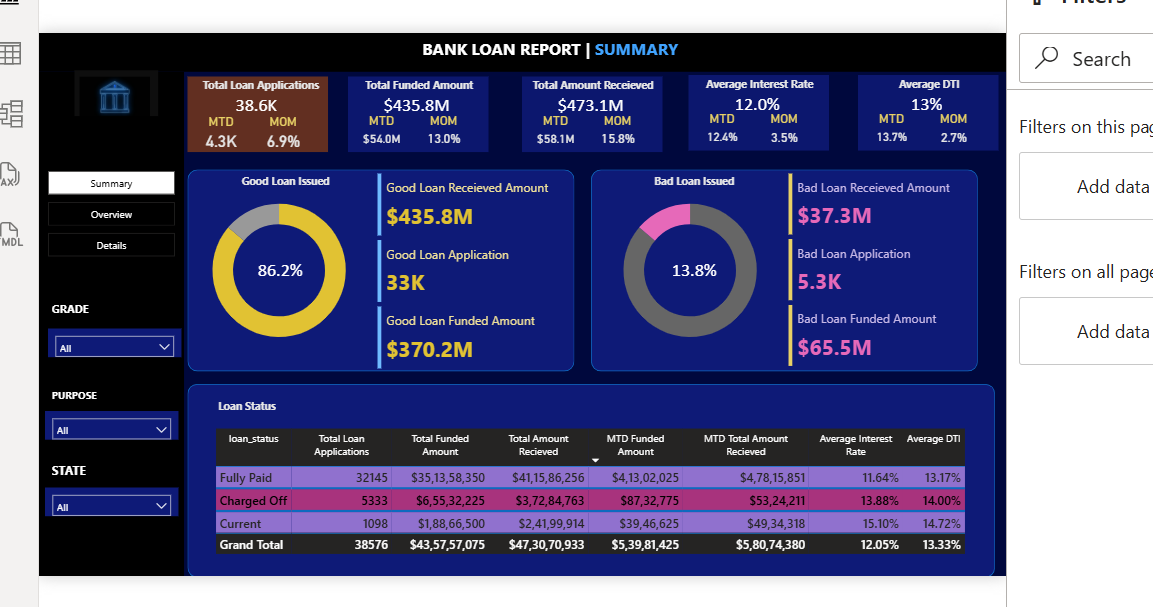

The dashboard page shown, as its layout file describes it:
{"tool":"powerbi","page":{"name":"Summary","canvas":[1280,720],"ordinal":0},"visuals":[{"type":"shape","box":[0,0,1280.7,51.6],"z":0},{"type":"shape","box":[858.9,56.2,186.1,100.2],"z":0,"group":"g4"},{"type":"shape","box":[1083.2,56.2,186.1,100.2],"z":0,"group":"g5"},{"type":"shape","box":[408.8,57.8,186.1,100.2],"z":0,"group":"g2"},{"type":"shape","box":[639.4,57.8,186.1,100.2],"z":0,"group":"g3"},{"type":"shape","box":[197.2,58.9,186.1,100.2],"z":0,"group":"g1"},{"type":"textbox","box":[502.6,0,356.3,81.1],"z":1000},{"type":"group","id":"g1","title":"Group 1","box":[197.2,54.1,186.1,105],"z":2000},{"type":"shape","box":[197.2,179.7,512.2,267.2],"z":3000},{"type":"group","id":"g2","title":"Group 1","box":[408.8,54.1,187.7,103.4],"z":4000},{"type":"card","fields":{"Values":["financial_loan.Average Interest Rate"]},"box":[858.9,56.2,181.3,74.8],"z":4000,"group":"g4"},{"type":"card","fields":{"Values":["financial_loan.Average DTI"]},"box":[1083.2,56.2,181.3,74.8],"z":4000,"group":"g5"},{"type":"card","fields":{"Values":["financial_loan.Total Funded Amount"]},"box":[408.8,57.8,181.3,74.8],"z":4000,"group":"g2"},{"type":"card","fields":{"Values":["financial_loan.Total Amount Recieved"]},"box":[639.4,57.8,181.3,74.8],"z":4000,"group":"g3"},{"type":"card","fields":{"Values":["financial_loan.Total Loan Applications"]},"box":[197.2,58.9,181.3,74.8],"z":4000,"group":"g1"},{"type":"textbox","box":[861.8,52.5,184.5,35],"z":5000,"group":"g4"},{"type":"textbox","box":[1086.1,52.5,184.5,35],"z":5000,"group":"g5"},{"type":"textbox","box":[205.2,54.1,178.1,35],"z":5000,"group":"g1"},{"type":"textbox","box":[411.7,54.1,184.5,35],"z":5000,"group":"g2"},{"type":"textbox","box":[642.3,54.1,184.5,35],"z":5000,"group":"g3"},{"type":"textbox","box":[227.5,179.7,192.5,38.2],"z":5000},{"type":"card","title":"MTD","fields":{"Values":["financial_loan.MTD Average Interest Rate"]},"box":[866.9,104.5,72.9,50.6],"z":6000,"group":"g4"},{"type":"card","title":"MTD","fields":{"Values":["financial_loan.MTD Average DTI"]},"box":[1091.2,104.5,72.9,50.6],"z":6000,"group":"g5"},{"type":"card","title":"MTD","fields":{"Values":["financial_loan.MTD Funded Amount"]},"box":[416.8,106.1,72.9,50.6],"z":6000,"group":"g2"},{"type":"card","title":"MTD","fields":{"Values":["financial_loan.MTD Total Amount Recieved"]},"box":[647.4,106.1,72.9,50.6],"z":6000,"group":"g3"},{"type":"card","title":"MTD","fields":{"Values":["financial_loan.MTD Loan Application"]},"box":[205.2,107.2,72.9,50.6],"z":6000,"group":"g1"},{"type":"card","fields":{"Values":["financial_loan.Good Loan %"]},"box":[227.5,275.2,181.3,74.8],"z":6000},{"type":"group","id":"g3","title":"Group 1","box":[639.4,54.1,187.7,103.4],"z":7000},{"type":"card","title":"MOM","fields":{"Values":["financial_loan.MOM Average Interest Rate"]},"box":[956.1,104.5,58.7,50.6],"z":7000,"group":"g4"},{"type":"card","title":"MOM","fields":{"Values":["financial_loan.MOM Average DTI"]},"box":[1180.4,104.5,58.7,50.6],"z":7000,"group":"g5"},{"type":"card","title":"MOM","fields":{"Values":["financial_loan.MOM Total Funded Amount"]},"box":[506,106.1,58.7,50.6],"z":7000,"group":"g2"},{"type":"card","title":"MOM","fields":{"Values":["financial_loan.MOM Total Amount Recieved"]},"box":[736.6,106.1,58.7,50.6],"z":7000,"group":"g3"},{"type":"card","title":"MOM","fields":{"Values":["financial_loan.MOM Loan Application"]},"box":[294.4,107.2,58.7,50.6],"z":7000,"group":"g1"},{"type":"group","id":"g4","title":"Group 1","box":[858.9,52.5,187.7,103.4],"z":8000},{"type":"donutChart","fields":{"Category":["financial_loan.Good vs Bad Loan"],"Y":["financial_loan.Total Loan Applications"]},"box":[192.5,198.8,249.7,230.6],"z":9000},{"type":"group","id":"g5","title":"Group 1","box":[1083.2,52.5,187.7,103.4],"z":10000},{"type":"shape","box":[730.1,179.7,512.2,267.2],"z":11000},{"type":"cardVisual","fields":{"Data":["financial_loan.Good Loan Amount Receieved","financial_loan.Good Loan Application","financial_loan.Good Loan Funded Amount"]},"box":[442.2,179.7,267.2,268.8],"z":12000},{"type":"donutChart","fields":{"Category":["financial_loan.Good vs Bad Loan"],"Y":["financial_loan.Total Loan Applications"]},"box":[736.5,198.8,249.7,230.6],"z":13000},{"type":"textbox","box":[741.2,181.3,249.7,65.2],"z":14000},{"type":"card","fields":{"Values":["financial_loan.Bad Loan %"]},"box":[776.2,275.2,181.3,74.8],"z":15000},{"type":"cardVisual","fields":{"Data":["financial_loan.Bad Loan Receieved Amount","financial_loan.Bad Loan Application","financial_loan.Bank Loan Funded Amount"]},"box":[986.2,181.3,252.9,267.2],"z":16000},{"type":"shape","box":[0,51.6,192,669],"z":17000},{"type":"shape","box":[195.6,464.5,1068.9,256.1],"z":18000},{"type":"tableEx","fields":{"Values":["financial_loan.loan_status","financial_loan.Total Loan Applications","financial_loan.Total Funded Amount","financial_loan.Total Amount Recieved","financial_loan.MTD Funded Amount","financial_loan.MTD Total Amount Recieved","financial_loan.Average Interest Rate","financial_loan.Average DTI"]},"box":[227.5,518.5,1053,202],"z":19000},{"type":"textbox","box":[227.5,478.8,192.5,39.8],"z":20000},{"type":"slicer","fields":{"Values":["financial_loan.address_state"]},"box":[8,601.3,176.6,38.2],"z":21000},{"type":"textbox","box":[12.7,561.5,84.3,39.8],"z":22000},{"type":"slicer","fields":{"Values":["financial_loan.purpose"]},"box":[8,499.5,176.6,38.2],"z":23000},{"type":"slicer","fields":{"Values":["financial_loan.grade"]},"box":[12.7,391.3,176.6,38.2],"z":24000},{"type":"textbox","box":[12.7,464.5,149.5,35],"z":25000},{"type":"textbox","box":[12.7,349.9,149.5,36.6],"z":26000},{"type":"pageNavigator","box":[12.7,182.9,168.6,114.5],"z":27000},{"type":"image","box":[41.4,0,120.9,159.1],"z":28000}]}

Visuals, with their boxes on the page's 1280x720 design canvas (x1, y1, x2, y2). These are canvas units, not pixel positions in the 1153x607 screenshot, which may show the page scaled, cropped or inside an application window:
shape: <bbox>0, 0, 1281, 52</bbox>
shape: <bbox>859, 56, 1045, 156</bbox>
shape: <bbox>1083, 56, 1269, 156</bbox>
shape: <bbox>409, 58, 595, 158</bbox>
shape: <bbox>639, 58, 826, 158</bbox>
shape: <bbox>197, 59, 383, 159</bbox>
textbox: <bbox>503, 0, 859, 81</bbox>
"Group 1" group: <bbox>197, 54, 383, 159</bbox>
shape: <bbox>197, 180, 709, 447</bbox>
"Group 1" group: <bbox>409, 54, 596, 158</bbox>
card - financial_loan.Average Interest Rate: <bbox>859, 56, 1040, 131</bbox>
card - financial_loan.Average DTI: <bbox>1083, 56, 1264, 131</bbox>
card - financial_loan.Total Funded Amount: <bbox>409, 58, 590, 133</bbox>
card - financial_loan.Total Amount Recieved: <bbox>639, 58, 821, 133</bbox>
card - financial_loan.Total Loan Applications: <bbox>197, 59, 378, 134</bbox>
textbox: <bbox>862, 52, 1046, 88</bbox>
textbox: <bbox>1086, 52, 1271, 88</bbox>
textbox: <bbox>205, 54, 383, 89</bbox>
textbox: <bbox>412, 54, 596, 89</bbox>
textbox: <bbox>642, 54, 827, 89</bbox>
textbox: <bbox>228, 180, 420, 218</bbox>
"MTD" card: <bbox>867, 104, 940, 155</bbox>
"MTD" card: <bbox>1091, 104, 1164, 155</bbox>
"MTD" card: <bbox>417, 106, 490, 157</bbox>
"MTD" card: <bbox>647, 106, 720, 157</bbox>
"MTD" card: <bbox>205, 107, 278, 158</bbox>
card - financial_loan.Good Loan %: <bbox>228, 275, 409, 350</bbox>
"Group 1" group: <bbox>639, 54, 827, 158</bbox>
"MOM" card: <bbox>956, 104, 1015, 155</bbox>
"MOM" card: <bbox>1180, 104, 1239, 155</bbox>
"MOM" card: <bbox>506, 106, 565, 157</bbox>
"MOM" card: <bbox>737, 106, 795, 157</bbox>
"MOM" card: <bbox>294, 107, 353, 158</bbox>
"Group 1" group: <bbox>859, 52, 1047, 156</bbox>
donutChart - financial_loan.Good vs Bad Loan x financial_loan.Total Loan Applications: <bbox>192, 199, 442, 429</bbox>
"Group 1" group: <bbox>1083, 52, 1271, 156</bbox>
shape: <bbox>730, 180, 1242, 447</bbox>
cardVisual - financial_loan.Good Loan Amount Receieved x financial_loan.Good Loan Application: <bbox>442, 180, 709, 448</bbox>
donutChart - financial_loan.Good vs Bad Loan x financial_loan.Total Loan Applications: <bbox>736, 199, 986, 429</bbox>
textbox: <bbox>741, 181, 991, 246</bbox>
card - financial_loan.Bad Loan %: <bbox>776, 275, 958, 350</bbox>
cardVisual - financial_loan.Bad Loan Receieved Amount x financial_loan.Bad Loan Application: <bbox>986, 181, 1239, 448</bbox>
shape: <bbox>0, 52, 192, 721</bbox>
shape: <bbox>196, 464, 1264, 721</bbox>
tableEx - financial_loan.loan_status x financial_loan.Total Loan Applications: <bbox>228, 518, 1280, 720</bbox>
textbox: <bbox>228, 479, 420, 519</bbox>
slicer - financial_loan.address_state: <bbox>8, 601, 185, 640</bbox>
textbox: <bbox>13, 562, 97, 601</bbox>
slicer - financial_loan.purpose: <bbox>8, 500, 185, 538</bbox>
slicer - financial_loan.grade: <bbox>13, 391, 189, 430</bbox>
textbox: <bbox>13, 464, 162, 500</bbox>
textbox: <bbox>13, 350, 162, 386</bbox>
pageNavigator: <bbox>13, 183, 181, 297</bbox>
image: <bbox>41, 0, 162, 159</bbox>
